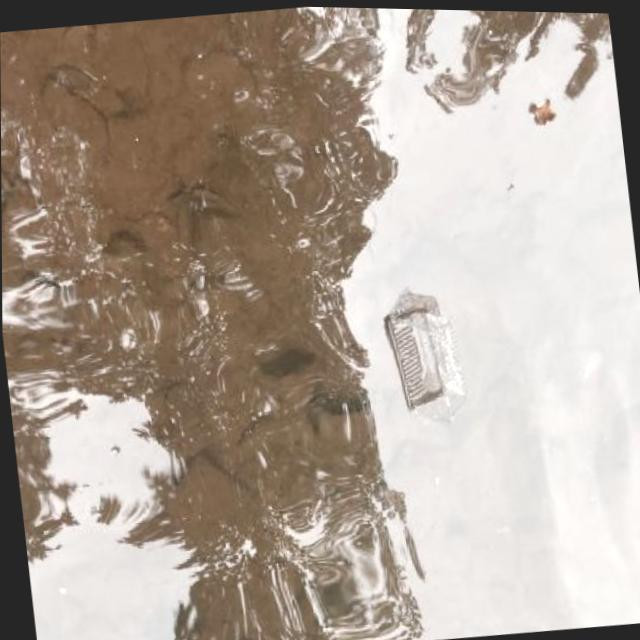Plastic: (377, 283, 477, 441)
